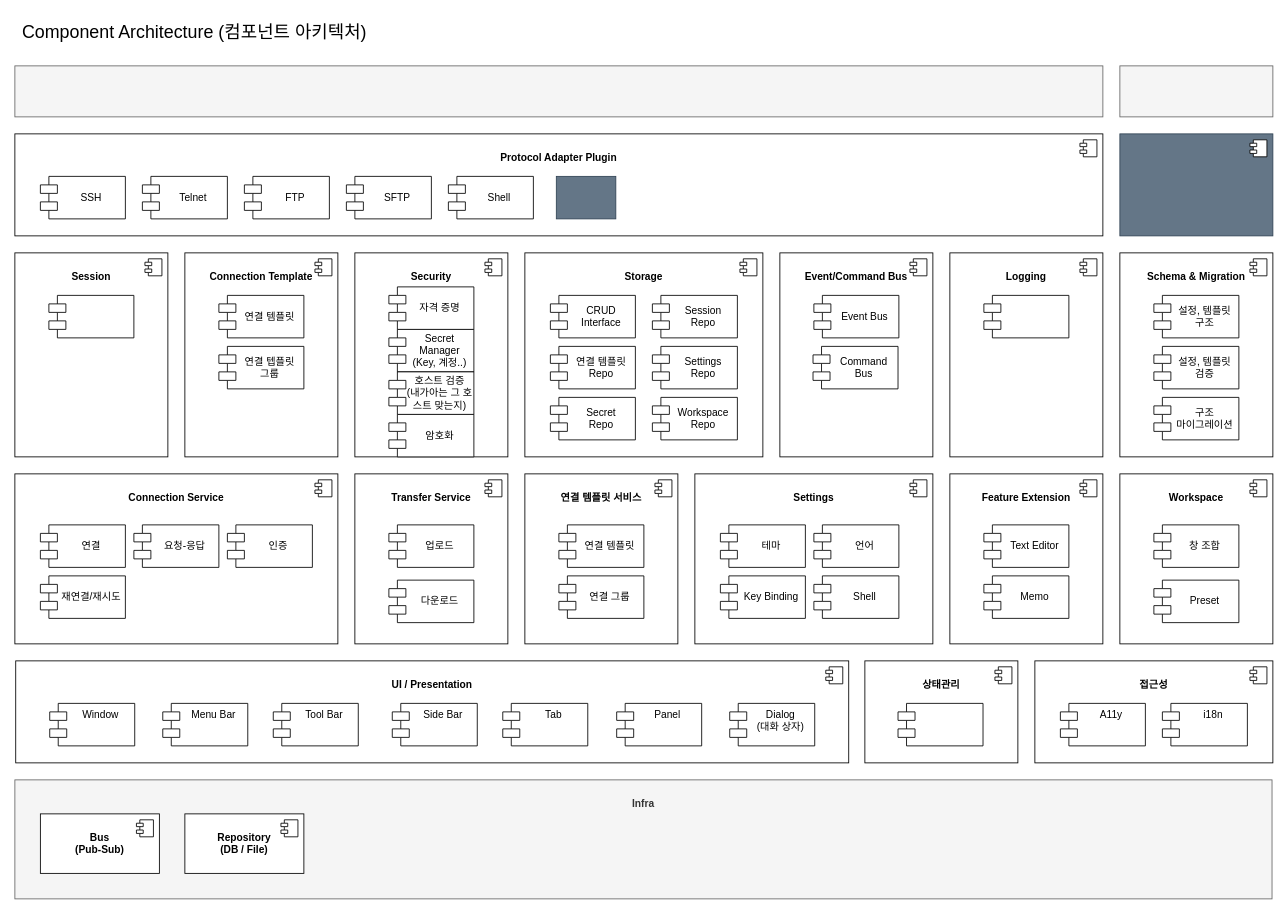
This 1288x914 diagram has some shape labels left out. Here are the shapes that lost their labels. From the top down, the centre of each, then its label:
At point 558,91: "Server (Remote / Host)".
At point 1196,91: "Internet".
At point 585,197: "Scalable..".
At point 1196,184: "Browser".
At point 91,316: "세션 라이프사이클".
At point 1026,316: "로그 수집".
At point 940,724: "MVVM / Redux-like / ...".
